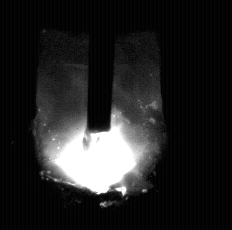arame: (88, 0, 112, 133)
poca: (34, 0, 164, 230)
